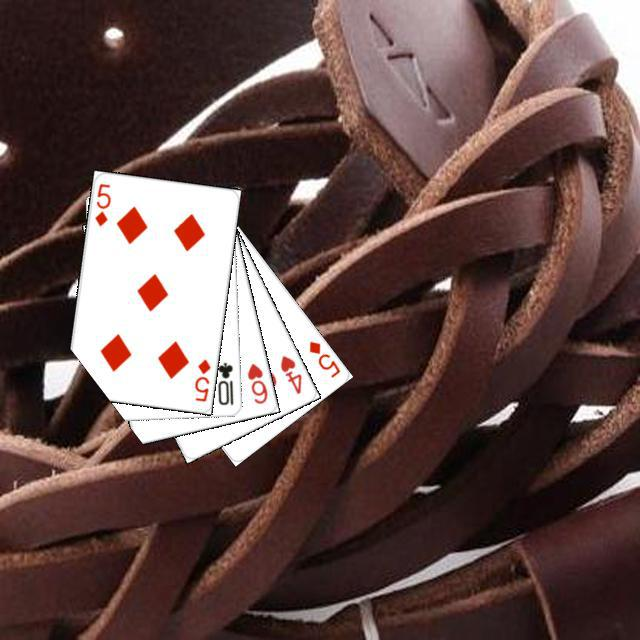10c: (213, 358, 235, 407)
4h: (275, 350, 303, 396)
5d: (304, 336, 342, 379), (189, 354, 212, 403), (90, 179, 112, 228)
6h: (242, 358, 269, 406)
